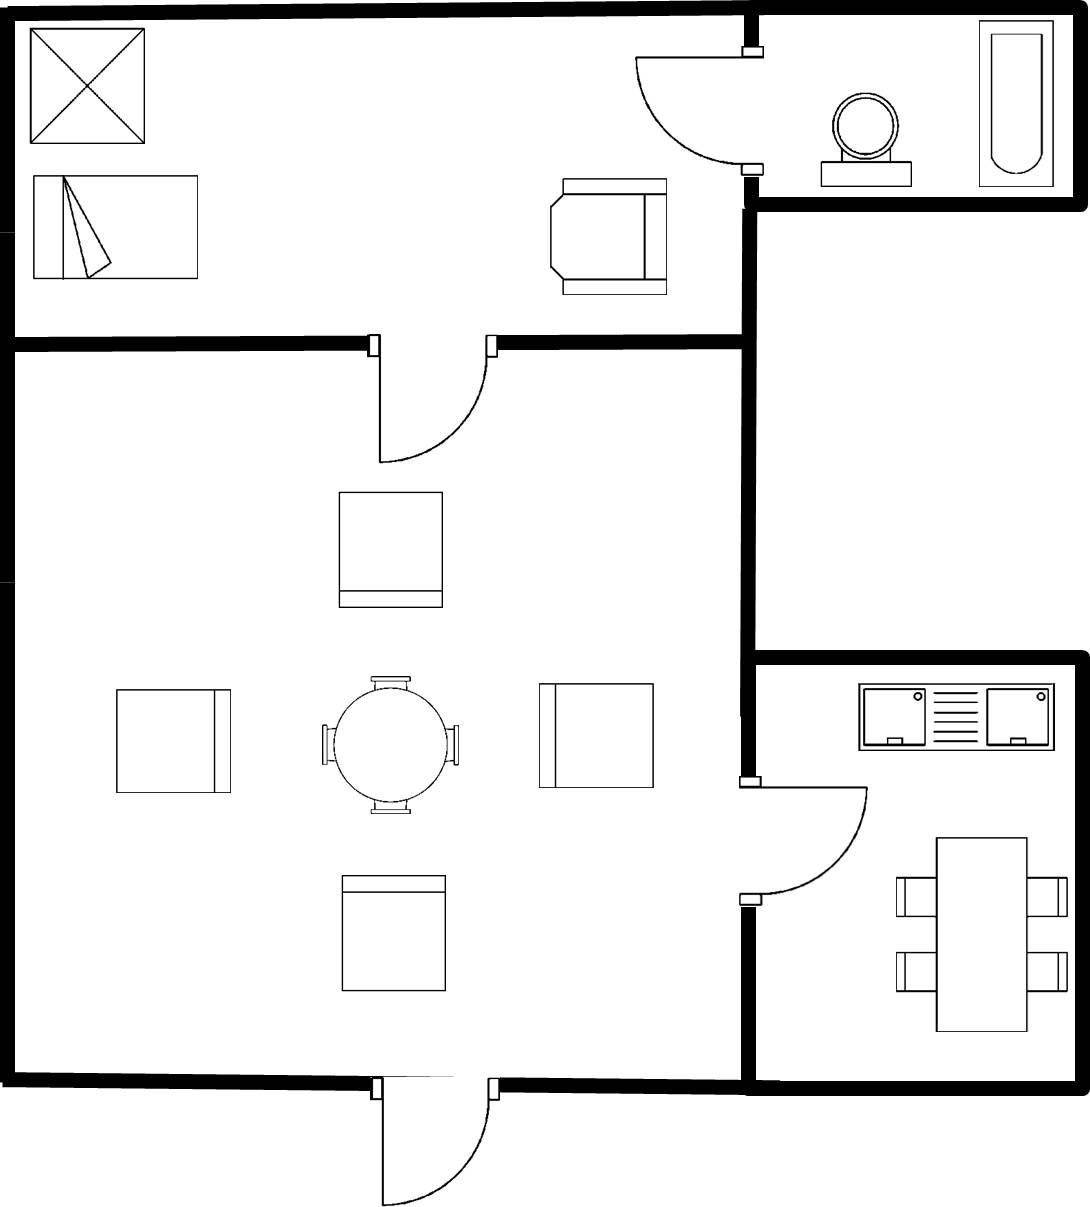armchair: (537, 168, 680, 305)
bed: (26, 168, 207, 290)
coffee_table: (24, 23, 153, 157)
dining_table: (886, 828, 1072, 1037)
large_sink: (812, 84, 921, 191)
round_table: (311, 667, 468, 822)
small_sofa: (329, 481, 451, 617), (104, 680, 239, 803), (332, 868, 454, 1001), (532, 676, 660, 796)
tub: (974, 16, 1061, 197)
twin_sink: (852, 675, 1062, 762)
